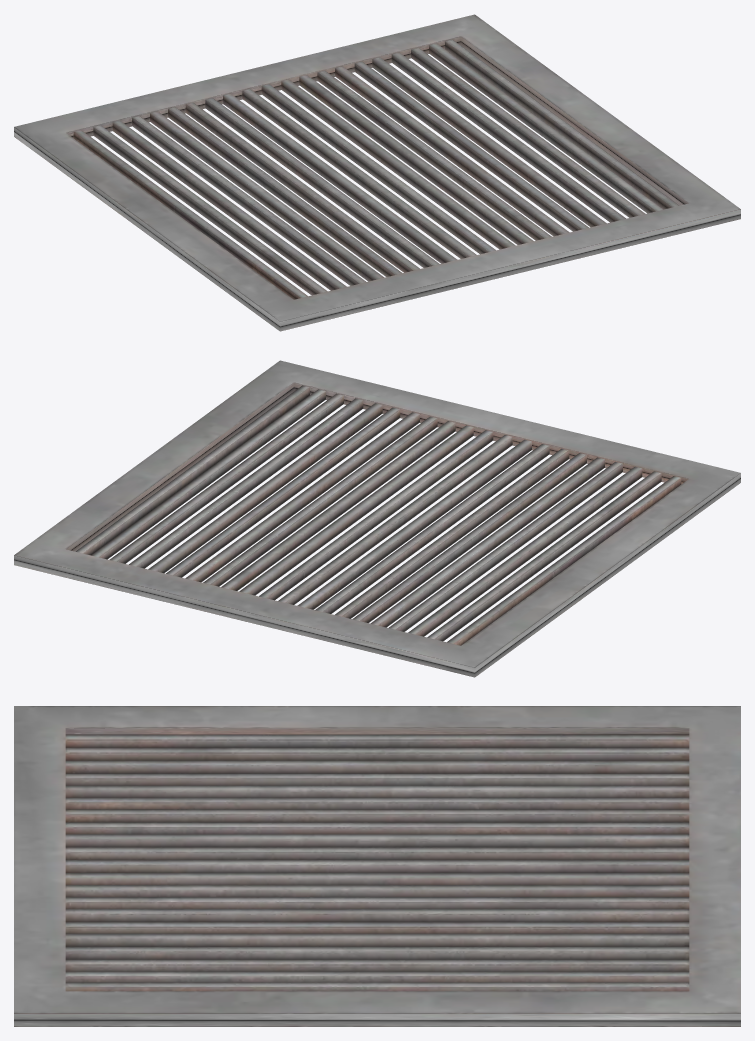
Rendered from drain-15.glb.
3 renders of one model, top to bottom at view 1: azimuth 30°, elevation 25°; view 2: azimuth 150°, elevation 25°; view 3: azimuth 270°, elevation 25°, orthographic. The views are drawn at different scales.
Visible parts, largest first — view 1: SM_Grate_1_Clean_M_Grate_1_Clean_0; view 2: SM_Grate_1_Clean_M_Grate_1_Clean_0; view 3: SM_Grate_1_Clean_M_Grate_1_Clean_0.
Part boxes in pixels (x1,y1,x2,y2): SM_Grate_1_Clean_M_Grate_1_Clean_0: (14, 14, 740, 331); SM_Grate_1_Clean_M_Grate_1_Clean_0: (14, 360, 740, 677); SM_Grate_1_Clean_M_Grate_1_Clean_0: (14, 706, 740, 1026).
Size of the model in its own units: 0.15 by 0.00308 by 0.15.
Materials: 1 (1 with a texture image).
